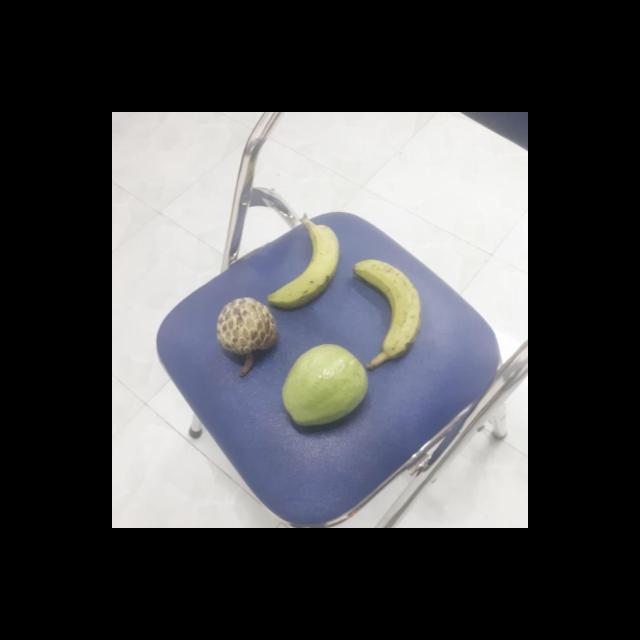Sakya fruit: (216, 297, 280, 372)
banana: (350, 260, 428, 360), (269, 220, 345, 306)
guava: (282, 344, 372, 428)
